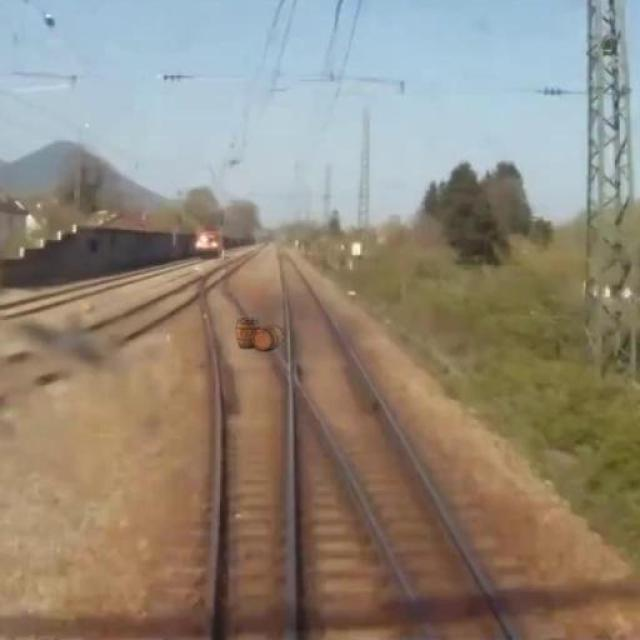Other_objects: (230, 314, 286, 354)
